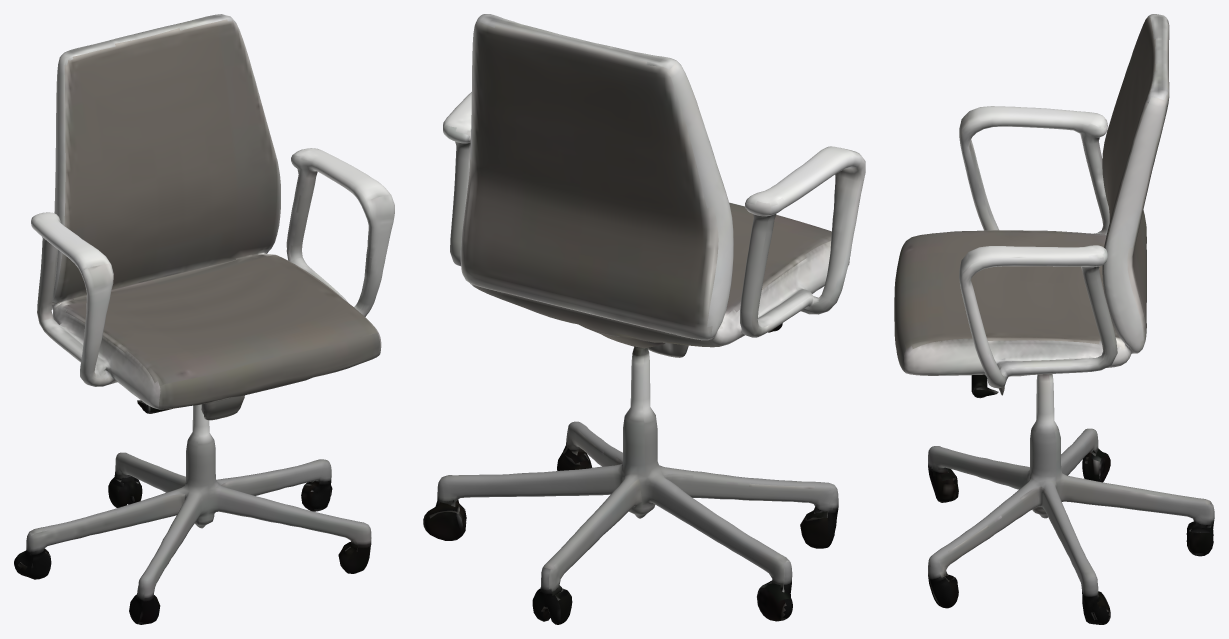
File: chair-task2.glb
3 renders of one model, left to right at view 1: azimuth 30°, elevation 25°; view 2: azimuth 150°, elevation 25°; view 3: azimuth 270°, elevation 25°, orthographic. The views are drawn at different scales.
Visible parts, largest first — view 1: Object_2; view 2: Object_2; view 3: Object_2.
Boxes of the visible parts, box(x1,y1,x2,y2) form: Object_2: box(14, 14, 394, 624); Object_2: box(423, 14, 865, 624); Object_2: box(894, 14, 1214, 624).
Bounding box in the file's own units: 0.7326 × 1.08 × 0.6284.
1 material, 1 textured.
